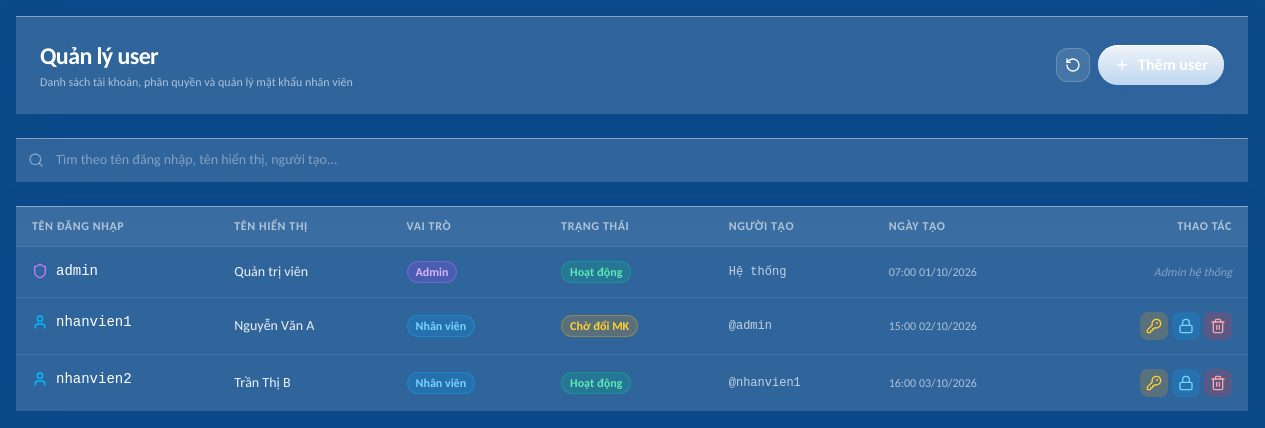
Scenario: UsersPage › tìm kiếm người dùng lọc đúng theo từ khóa
This screenshot has width=1265, height=428.
Check: the text "nhanvien1" is shown, box [56,312,132,332]
Type "Trần Thị B" into the field with placeholder "Tìm theo tên đăng nhập, tên hiển thị, người tạo...".
click(646, 160); type("Trần Thị B")  # box [56,150,1236,170]
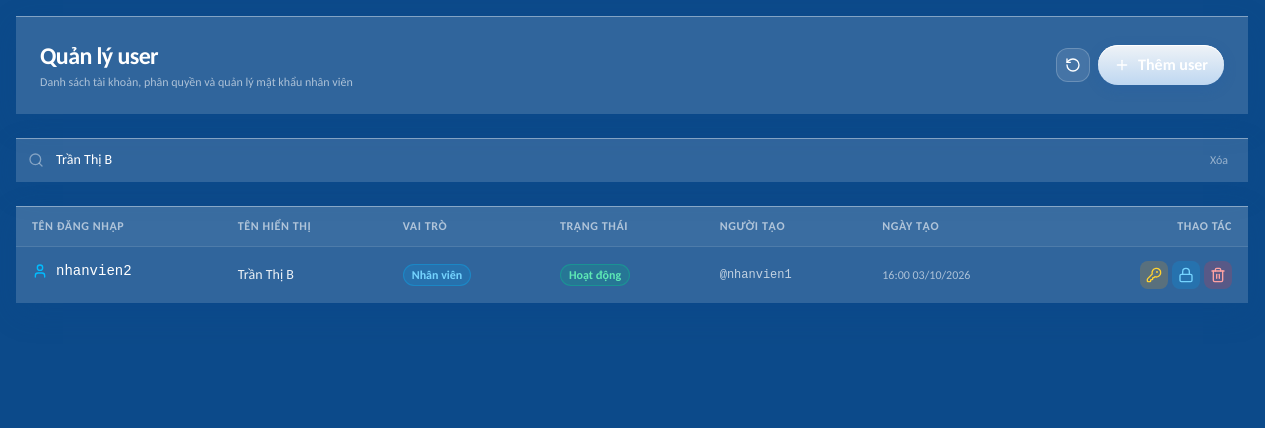
Check: the text "nhanvien2" is shown, box [56,261,132,281]
Check: the text "admin" is gone
